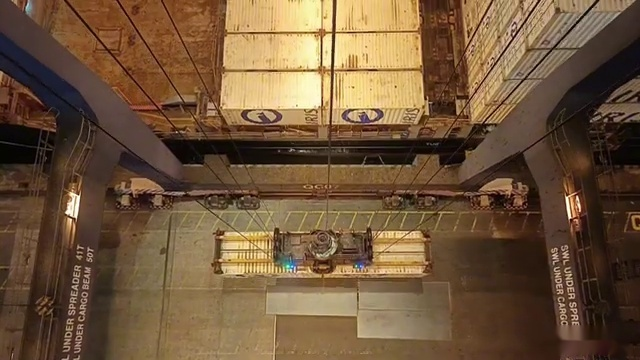container: (205, 221, 438, 287), (220, 70, 428, 127), (221, 32, 425, 70), (222, 6, 423, 41), (222, 0, 424, 23), (222, 0, 421, 20), (455, 3, 640, 24), (209, 0, 435, 17)
guide_mark: (112, 214, 546, 231), (66, 350, 560, 360)
spreader: (208, 222, 436, 286)
target_slot: (183, 235, 430, 298)
